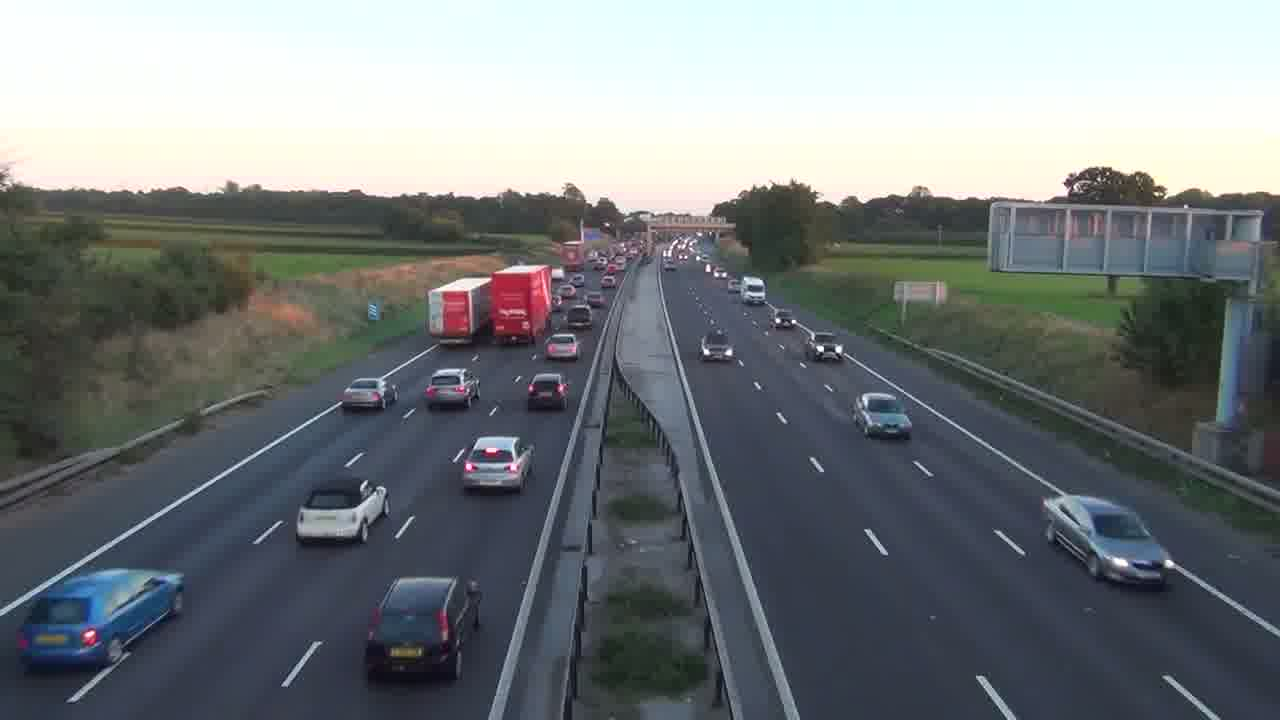car: (16, 566, 186, 674), (1040, 492, 1174, 589), (364, 575, 482, 680), (295, 477, 390, 545), (454, 434, 535, 494), (851, 392, 913, 440), (423, 368, 480, 410), (340, 377, 392, 413), (526, 372, 569, 411), (545, 333, 579, 362), (564, 304, 593, 329)
truck: (491, 265, 552, 346), (427, 276, 492, 343), (739, 275, 766, 306)
